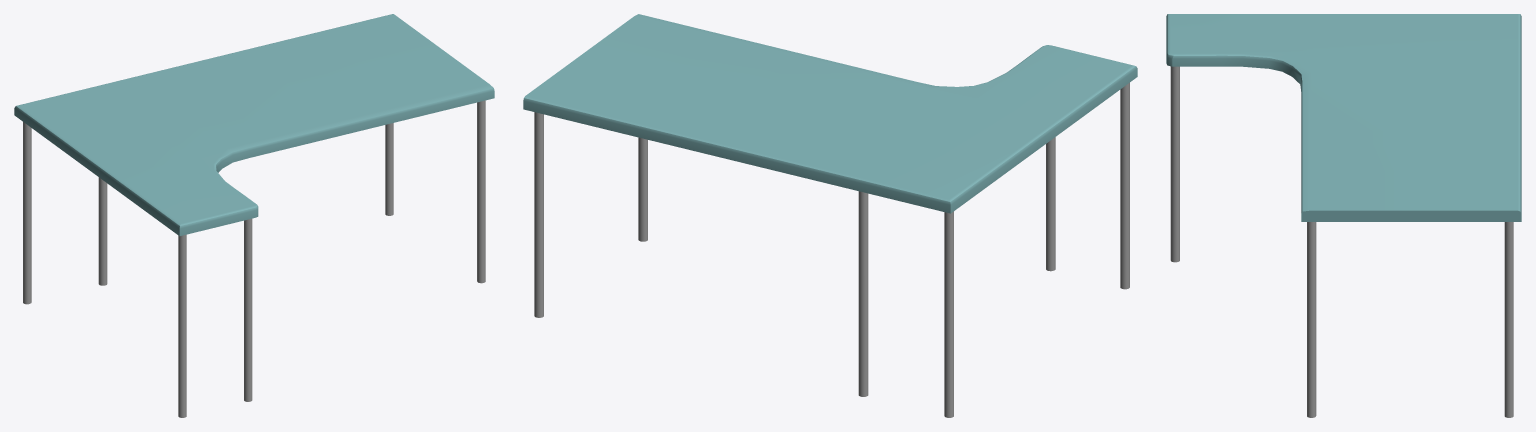
The model's file is DeskwLegs.fbx.
The picture shows the model from 3 angles, left to right: view 1: azimuth 30°, elevation 25°; view 2: azimuth 150°, elevation 25°; view 3: azimuth 270°, elevation 25°; orthographic projection. The views are drawn at different scales.
Visible parts, largest first — view 1: Desktop:pCube2, pCylinder2, pCylinder3, pCylinder6, pCylinder1, pCylinder4, pCylinder5; view 2: Desktop:pCube2, pCylinder4, pCylinder1, pCylinder5, pCylinder2, pCylinder3, pCylinder6; view 3: Desktop:pCube2, pCylinder3, pCylinder5, pCylinder6.
Part boxes in pixels (x1,y1,x2,y2): Desktop:pCube2: (14, 14, 494, 236); pCylinder2: (178, 234, 186, 417); pCylinder3: (244, 218, 252, 401); pCylinder6: (477, 100, 485, 283); pCylinder1: (23, 122, 31, 304); pCylinder4: (98, 177, 107, 285); pCylinder5: (385, 123, 393, 215); Desktop:pCube2: (523, 14, 1137, 213); pCylinder4: (858, 191, 868, 396); pCylinder1: (944, 211, 953, 417); pCylinder5: (534, 112, 543, 317); pCylinder2: (1120, 83, 1129, 289); pCylinder3: (1046, 137, 1055, 271); pCylinder6: (638, 137, 647, 241); Desktop:pCube2: (1166, 14, 1521, 221); pCylinder3: (1170, 66, 1179, 262); pCylinder5: (1504, 222, 1513, 417); pCylinder6: (1307, 222, 1316, 417).
Size of the model in its own units: 5.91 by 2.92 by 4.48.
